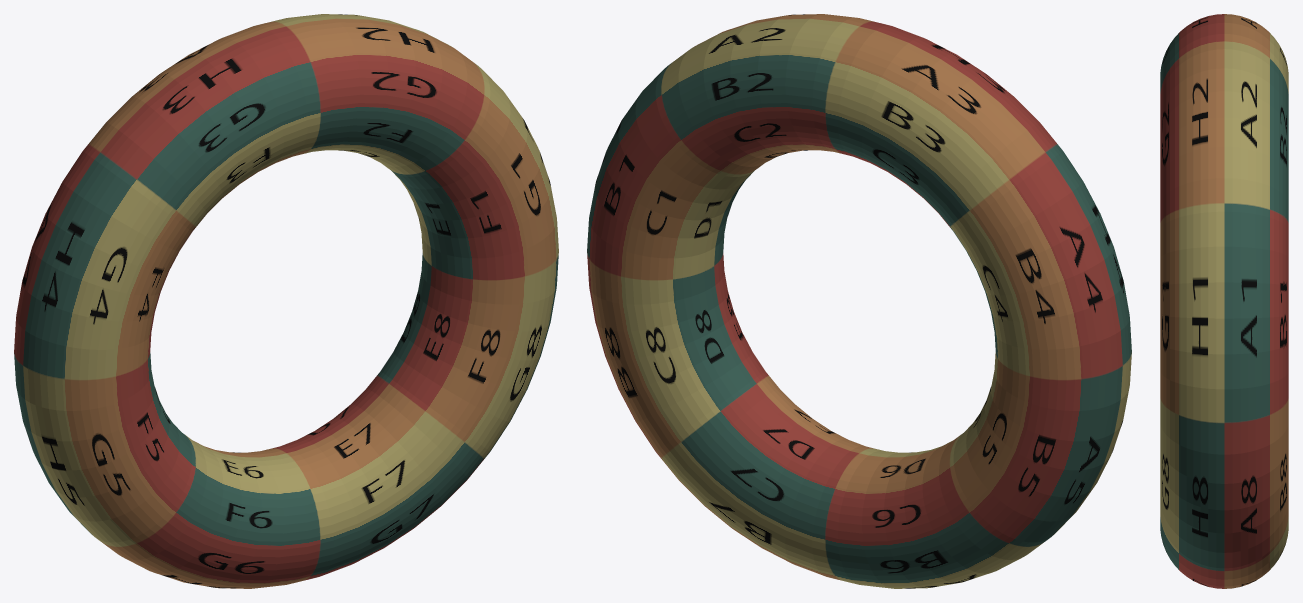
Rendered from texture_torus_R30_r25.glb.
The picture shows the model from 3 angles, left to right: view 1: azimuth 30°, elevation 25°; view 2: azimuth 150°, elevation 25°; view 3: azimuth 270°, elevation 25°; orthographic projection. The views are drawn at different scales.
Visible parts, largest first — view 1: world; view 2: world; view 3: world.
Boxes of the visible parts, x1,y1,x2,y2 form: world: (14, 14, 558, 588); world: (587, 14, 1131, 588); world: (1160, 14, 1288, 588).
Size of the model in its own units: 38.67 by 38.59 by 8.65.
1 material, 1 textured.
